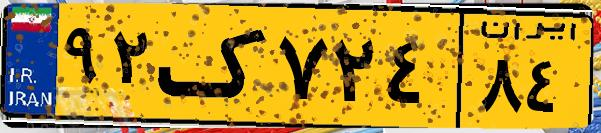2: (330, 28, 385, 110), (110, 28, 158, 98)
4: (385, 28, 445, 110), (525, 38, 570, 115)
7: (270, 28, 330, 110)
8: (475, 38, 525, 113)
9: (57, 26, 110, 100)
ک: (158, 12, 270, 120)
